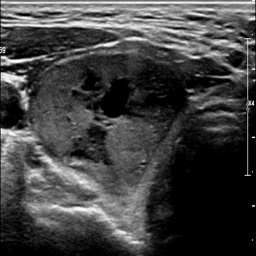mass: (32, 52, 187, 196)
